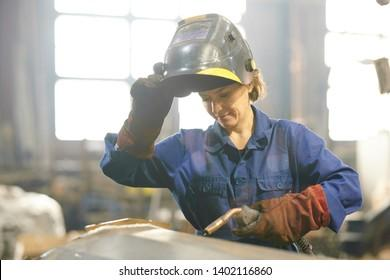gloves: (229, 182, 332, 246), (116, 69, 174, 160)
